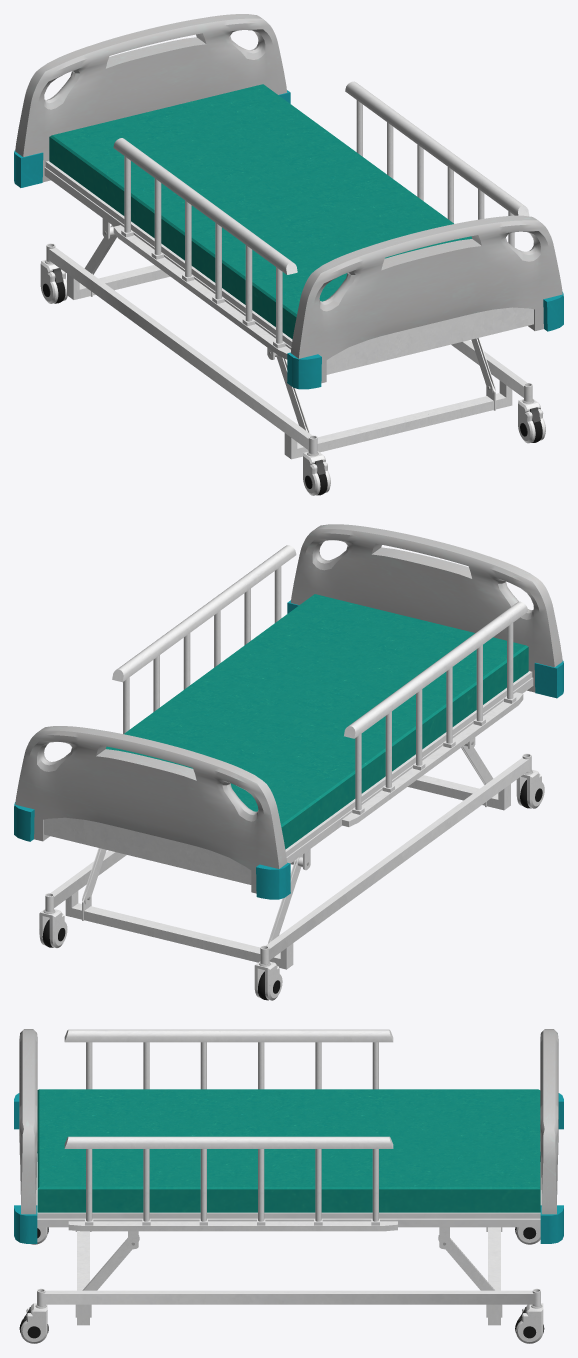
The model's file is cama_hospital.glb.
3 renders of one model, top to bottom at view 1: azimuth 30°, elevation 25°; view 2: azimuth 150°, elevation 25°; view 3: azimuth 270°, elevation 25°, orthographic. The views are drawn at different scales.
Visible parts, largest first — view 1: Plane; view 2: Plane; view 3: Plane.
Boxes of the visible parts, box(x1,y1,x2,y2) form: Plane: box(14, 14, 563, 495); Plane: box(14, 524, 563, 1000); Plane: box(14, 1029, 563, 1343).
Bounding box in the file's own units: 8.8 × 7.39 × 16.43.
1 material, 1 textured.
